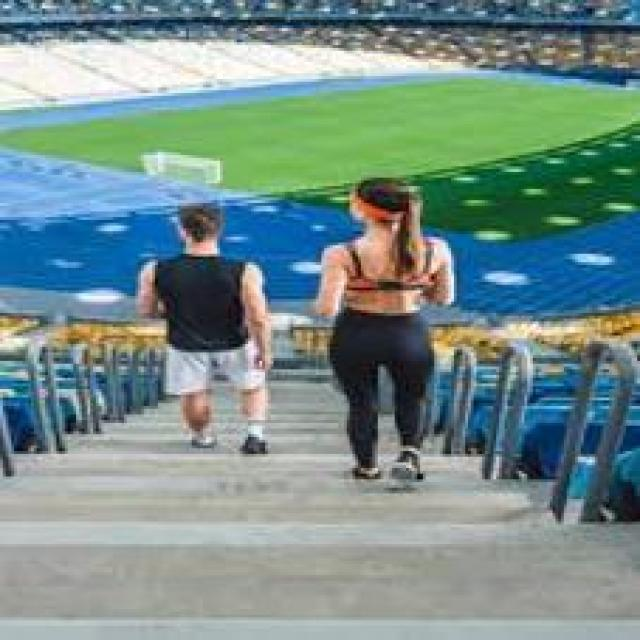downstair: (46, 413, 500, 579)
